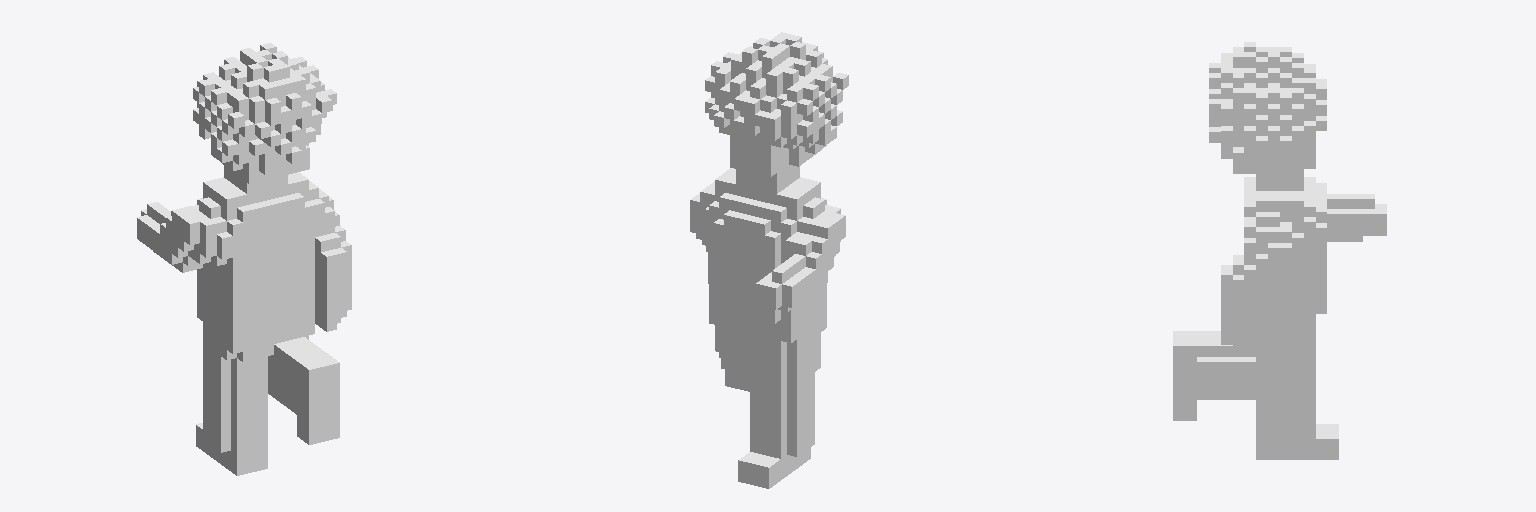
Rendered from felix_renn_2.obj.
3 renders of one model, left to right at view 1: azimuth 30°, elevation 25°; view 2: azimuth 150°, elevation 25°; view 3: azimuth 270°, elevation 25°, orthographic.
Visible parts, largest first — view 1: object 1; view 2: object 1; view 3: object 1.
Boxes of the visible parts, x1=… form: object 1: x1=137, y1=43, x2=351, y2=475; object 1: x1=690, y1=32, x2=848, y2=488; object 1: x1=1173, y1=42, x2=1386, y2=459.
Size of the model in its own units: 1.4 by 3.8 by 1.8.